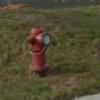Hydrant: (22, 20, 69, 75)
